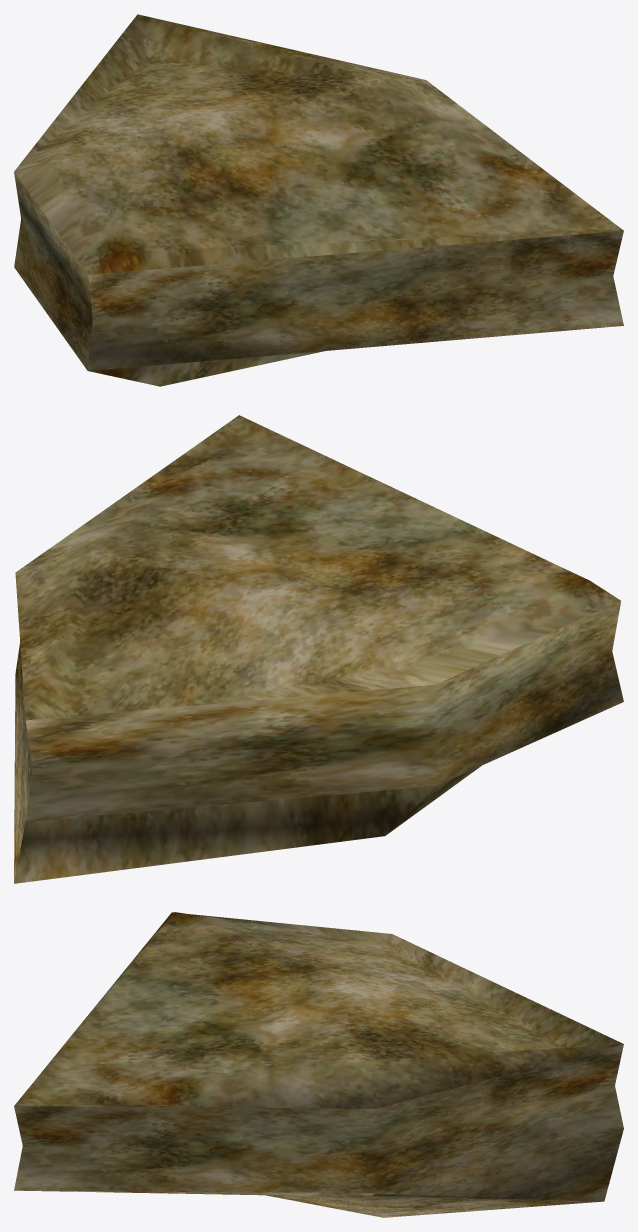
Rendered from TROLLHOLE02_RM_FALL_ROCK07.fbx.
3 renders of one model, top to bottom at view 1: azimuth 30°, elevation 25°; view 2: azimuth 150°, elevation 25°; view 3: azimuth 270°, elevation 25°, orthographic. The views are drawn at different scales.
Parts seen in each view (by area): view 1: TROLLHOLE02_RM_FALL_ROCK07; view 2: TROLLHOLE02_RM_FALL_ROCK07; view 3: TROLLHOLE02_RM_FALL_ROCK07.
Boxes of the visible parts, x1,y1,x2,y2 form: TROLLHOLE02_RM_FALL_ROCK07: (14, 14, 623, 386); TROLLHOLE02_RM_FALL_ROCK07: (14, 415, 623, 883); TROLLHOLE02_RM_FALL_ROCK07: (14, 912, 623, 1217).
Size of the model in its own units: 14999 by 7542 by 19626.
1 material, 1 textured.
